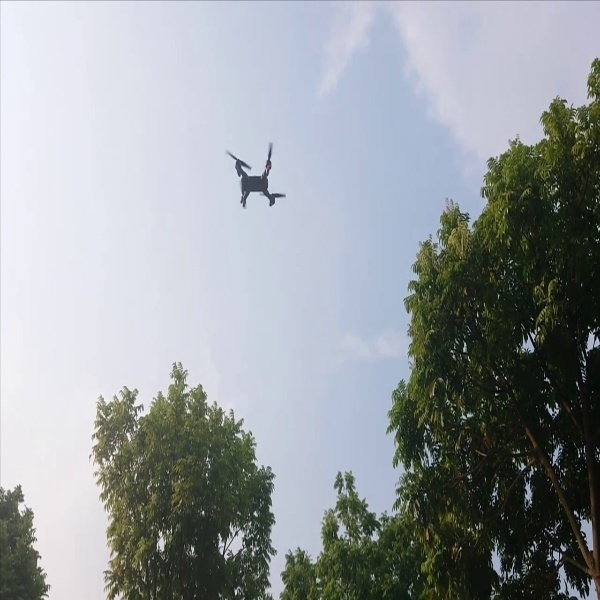drone: (218, 135, 294, 213)
